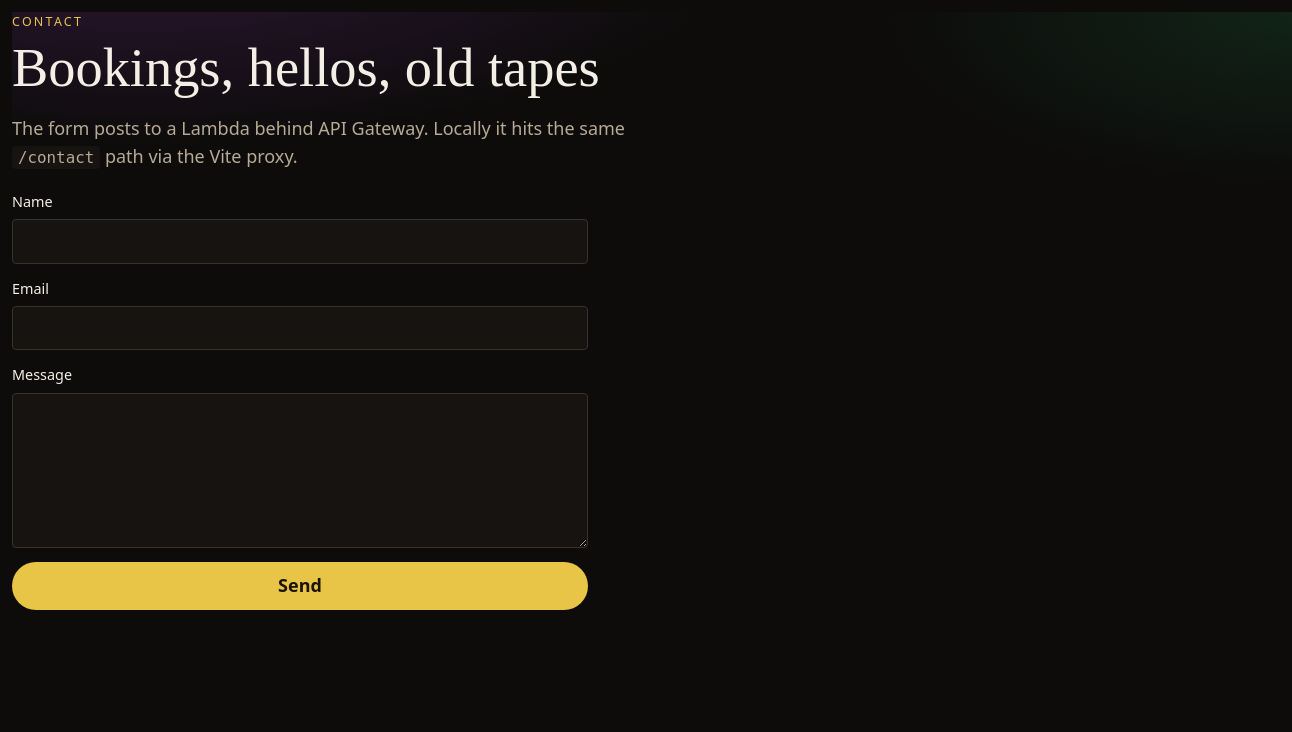
Test: Contact › shows success message on successful submission
This screenshot has width=1292, height=732.
Type "Brendan" into the field labelled "Name".
click(300, 241); type("Brendan")  # box x1=12 y1=219 x2=588 y2=264
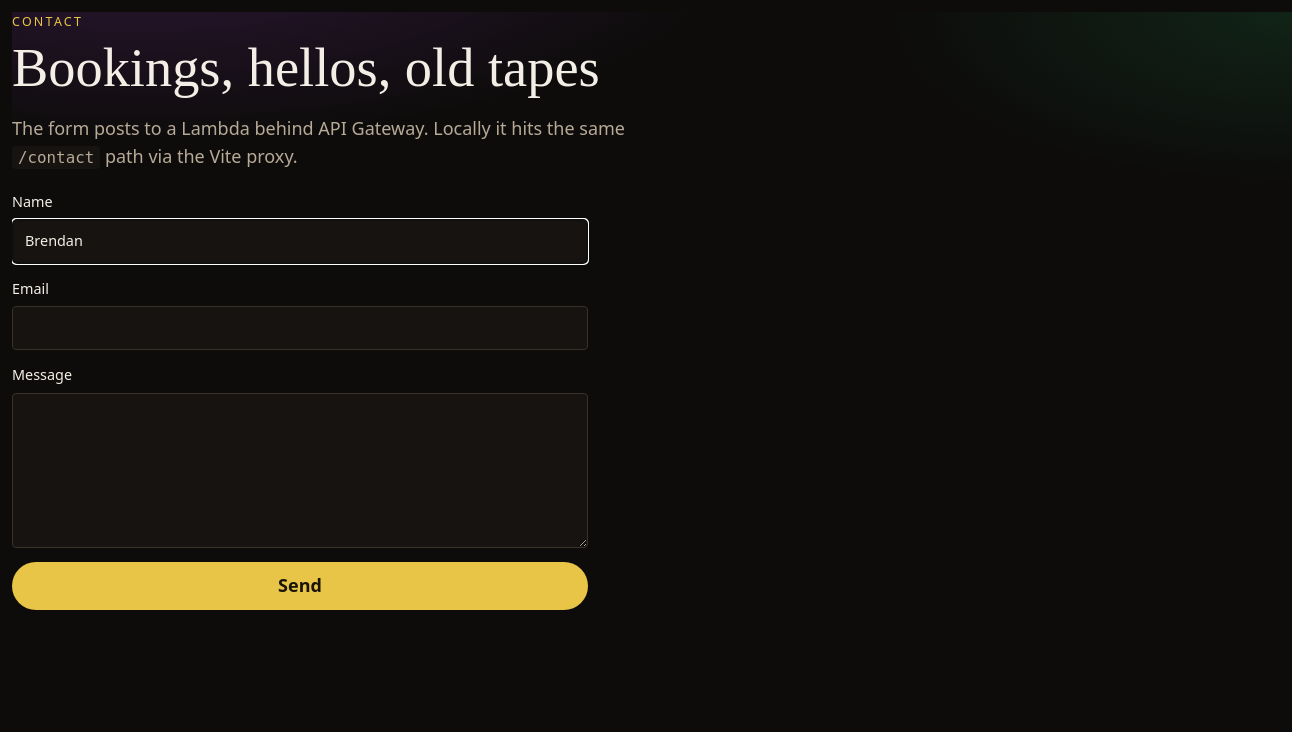
Type "brendan@test.com" into the field labelled "Email".
click(300, 328); type("brendan@test.com")  # box x1=12 y1=306 x2=588 y2=350
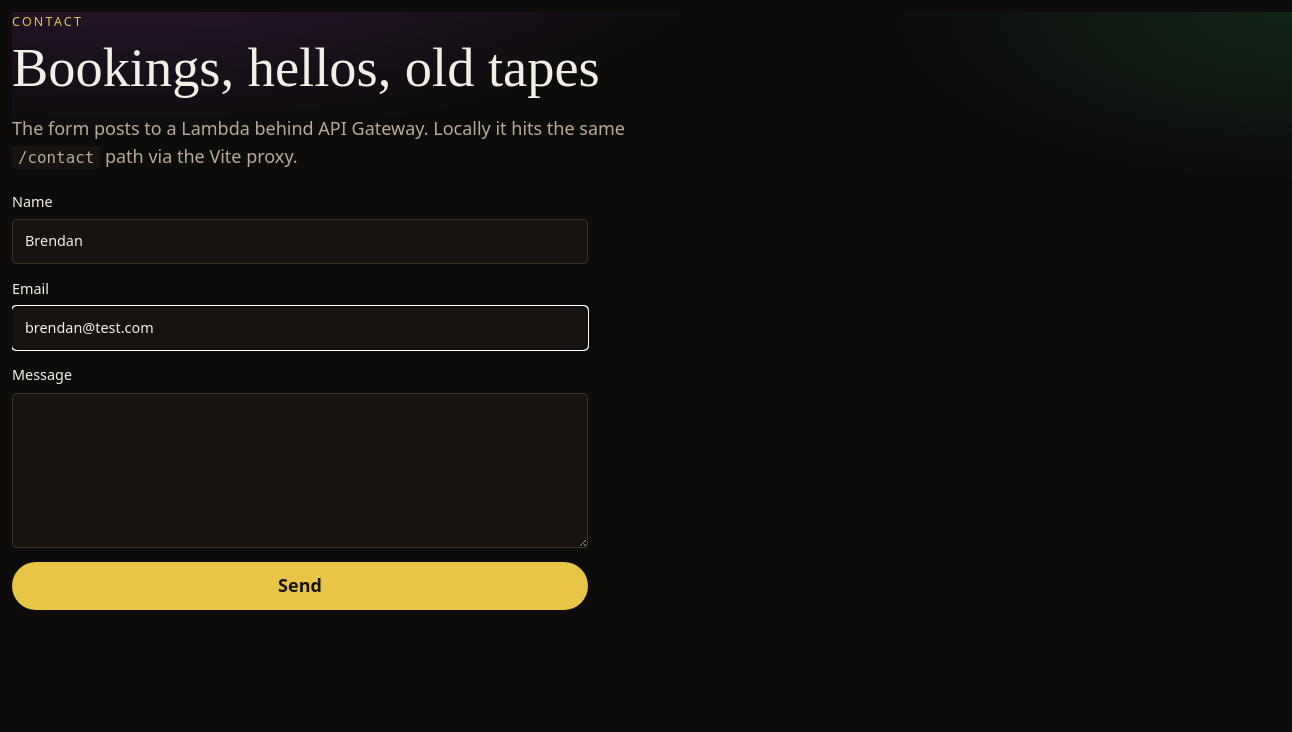
Type "Hello there" into the text box labelled "Message".
click(300, 470); type("Hello there")  # box x1=12 y1=392 x2=588 y2=548
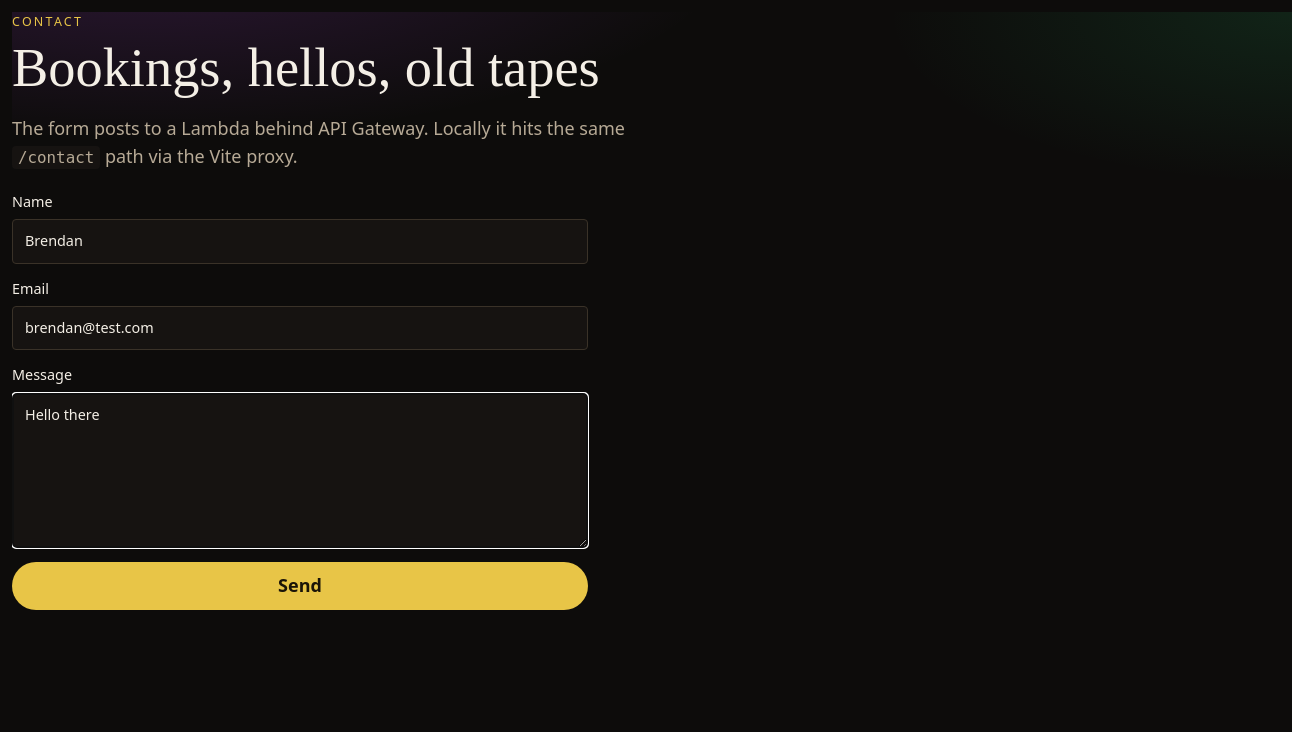
Click the button "Send".
click(300, 586)  # box x1=12 y1=562 x2=588 y2=610
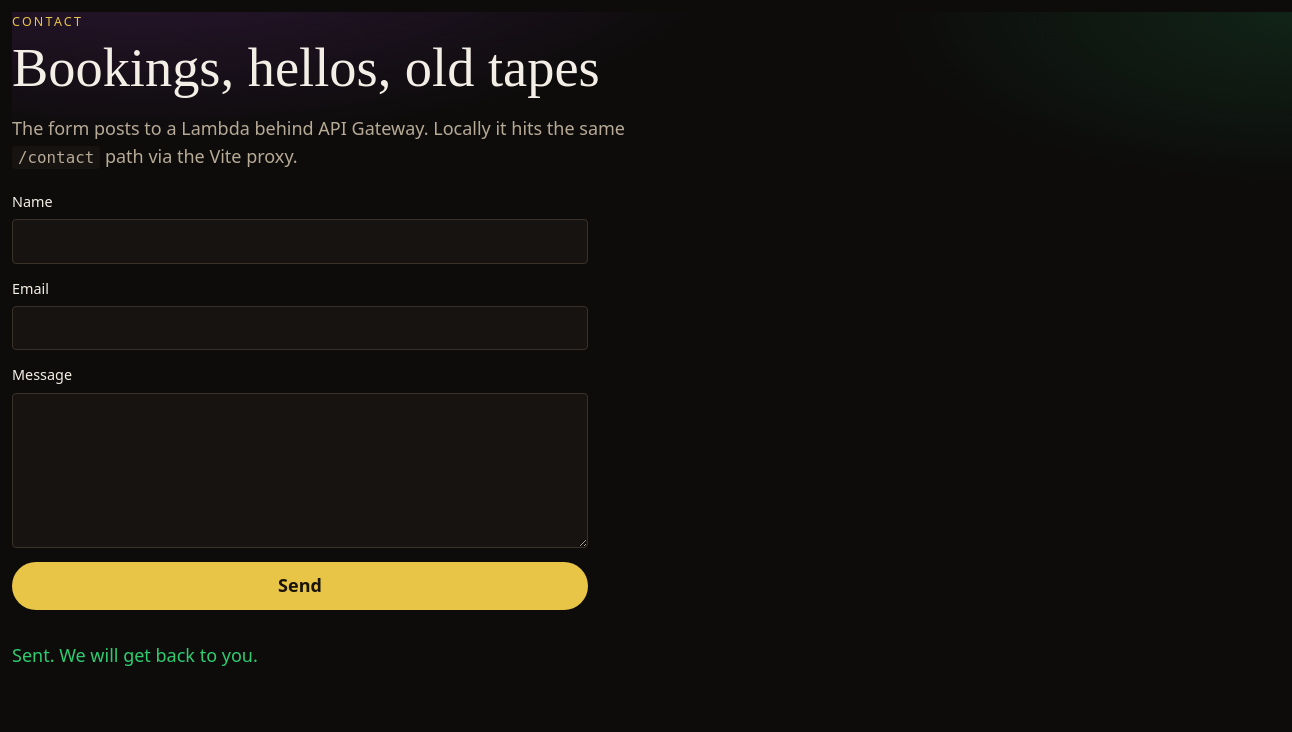
Check: the text "Sent. We will get back to you." is shown, box x1=12 y1=643 x2=258 y2=667
